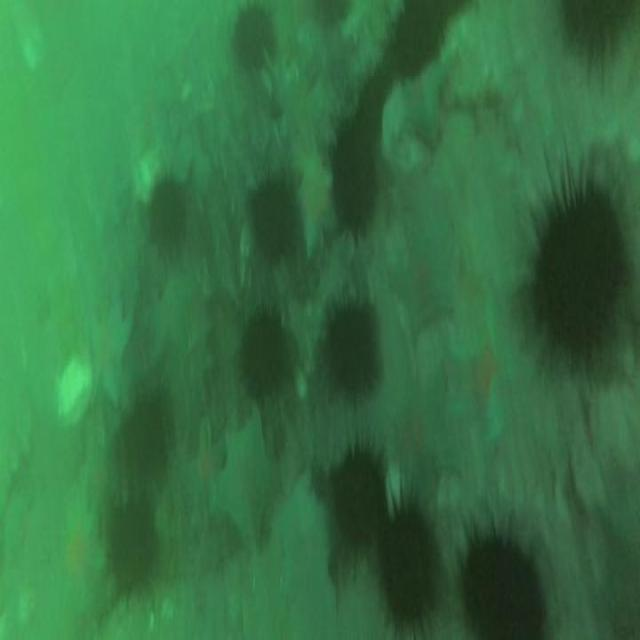echinus: (538, 191, 625, 356), (462, 537, 543, 640), (381, 507, 439, 623), (332, 447, 388, 544), (331, 119, 377, 232), (564, 3, 638, 62), (327, 305, 376, 389), (108, 508, 158, 590), (117, 406, 167, 485), (240, 316, 286, 397), (251, 177, 295, 258), (388, 16, 442, 77), (147, 180, 185, 247), (232, 11, 274, 70), (356, 73, 391, 114)
scallop: (55, 356, 92, 425)
starfish: (444, 302, 522, 439), (390, 228, 456, 330), (386, 381, 440, 461)
